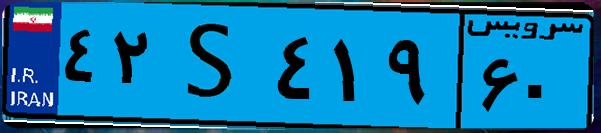0: (525, 38, 570, 115)
1: (330, 28, 385, 110)
2: (110, 28, 158, 98)
4: (270, 28, 330, 110), (57, 26, 110, 100)
6: (475, 38, 525, 113)
9: (385, 28, 445, 110)
S: (158, 12, 270, 120)
